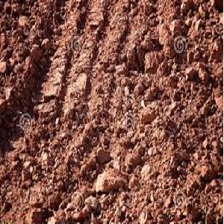clay_soil: (12, 19, 211, 209)
